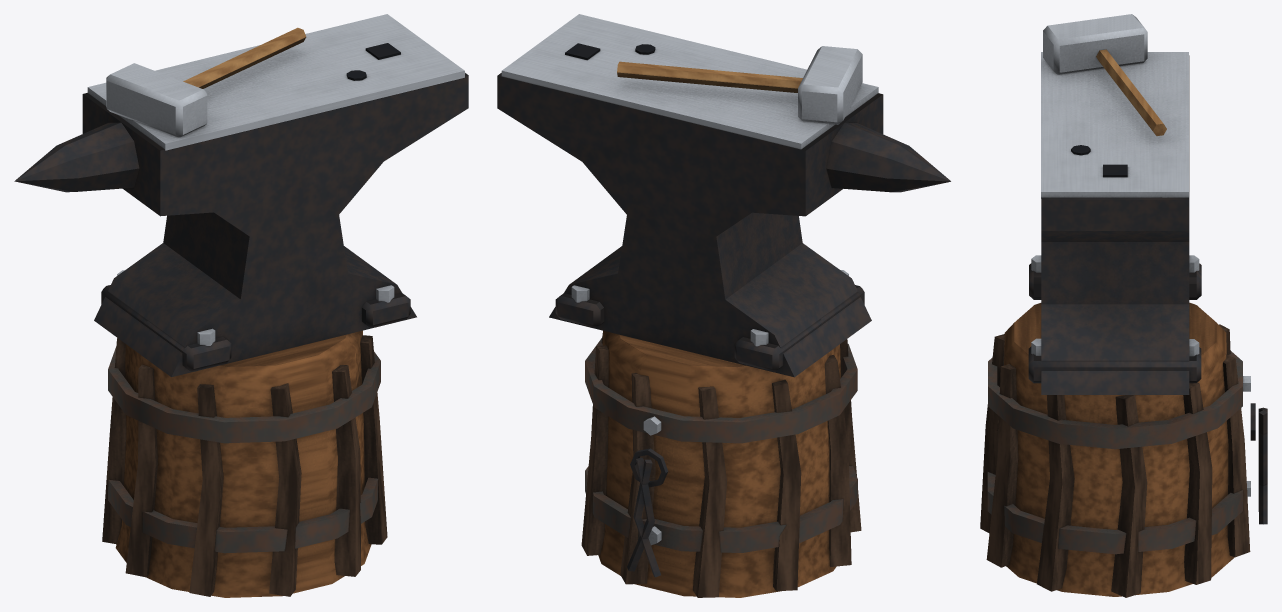
The model's file is yunque_forja.fbx.
3 views of the same model, side by side, from view 1: azimuth 30°, elevation 25°; view 2: azimuth 150°, elevation 25°; view 3: azimuth 270°, elevation 25° (orthographic). The views are drawn at different scales.
Visible parts, largest first — view 1: yunque_forja; view 2: yunque_forja; view 3: yunque_forja.
Part boxes in pixels (bbox=[...]): yunque_forja: bbox=[14, 14, 468, 597]; yunque_forja: bbox=[497, 14, 950, 597]; yunque_forja: bbox=[980, 14, 1267, 597].
Size of the model in its own units: 1.86 by 2.11 by 1.16.
Materials: 1 (1 with a texture image).
